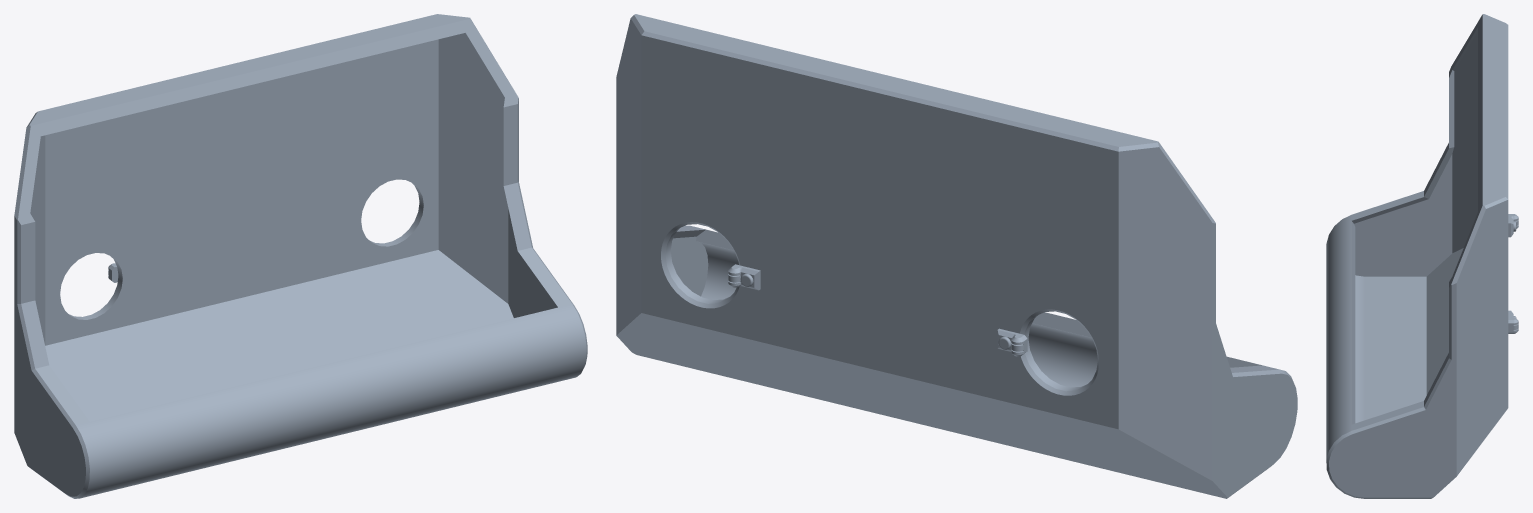
The model's file is box_lid_main.obj.
3 renders of one model, left to right at view 1: azimuth 30°, elevation 25°; view 2: azimuth 150°, elevation 25°; view 3: azimuth 270°, elevation 25°, orthographic. The views are drawn at different scales.
Visible parts, largest first — view 1: 1; view 2: 1; view 3: 1.
Part boxes in pixels (box(x1,y1,x2,y2)): 1: box(14, 14, 587, 498); 1: box(616, 14, 1297, 498); 1: box(1326, 14, 1518, 498).
Bounding box in the file's own units: 200 × 120 × 74.42.
